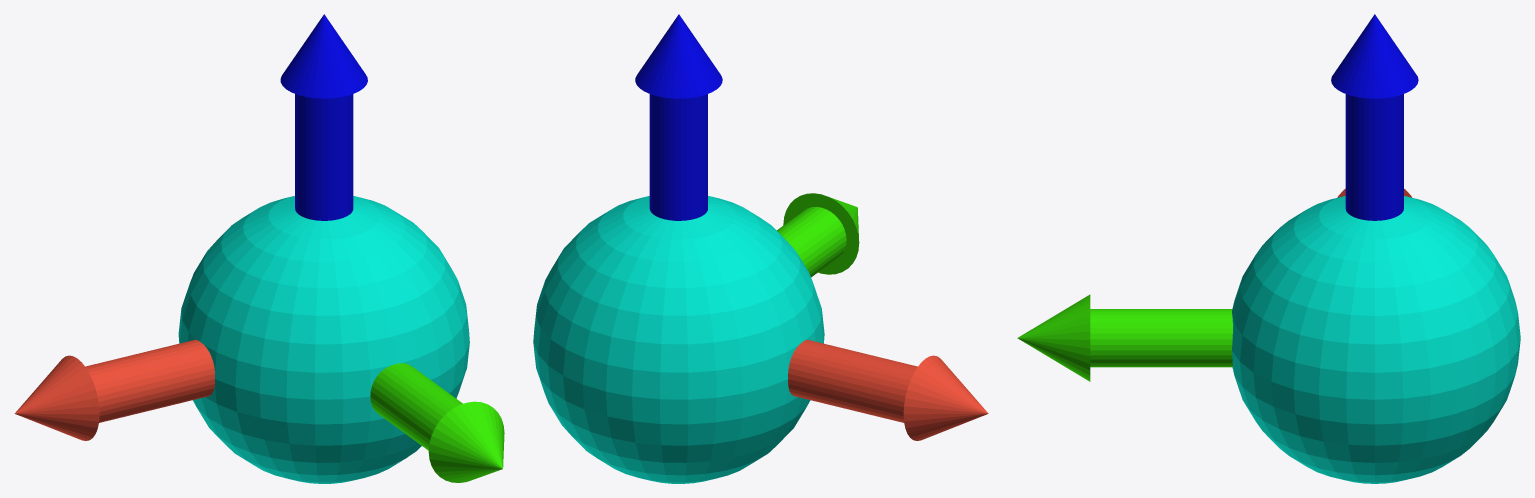
The model's file is ball_mesh.dae.
3 renders of one model, left to right at view 1: azimuth 30°, elevation 25°; view 2: azimuth 150°, elevation 25°; view 3: azimuth 270°, elevation 25°, orthographic.
Parts seen in each view (by area): view 1: Sphere, Cylinder, Cylinder_002, Cone_001, Cylinder_001, Cone_002, Cone; view 2: Sphere, Cylinder, Cylinder_002, Cone_002, Cone, Cylinder_001, Cone_001; view 3: Sphere, Cylinder_001, Cylinder, Cone, Cone_001.
Part boxes in pixels (box(x1,y1,x2,y2)): Sphere: box(178, 196, 469, 483); Cylinder: box(295, 94, 353, 220); Cylinder_002: box(85, 339, 214, 422); Cone_001: box(428, 401, 504, 482); Cylinder_001: box(370, 363, 462, 450); Cone_002: box(14, 355, 99, 440); Cone: box(280, 14, 367, 98); Sphere: box(533, 196, 824, 483); Cylinder: box(649, 94, 707, 220); Cylinder_002: box(788, 339, 917, 422); Cone_002: box(903, 355, 988, 440); Cone: box(635, 14, 722, 98); Cylinder_001: box(777, 207, 846, 277); Cone_001: box(783, 193, 859, 274); Sphere: box(1232, 196, 1520, 483); Cylinder_001: box(1090, 309, 1232, 367); Cylinder: box(1345, 94, 1403, 220); Cone: box(1331, 14, 1418, 98); Cone_001: box(1017, 294, 1090, 381).
Size of the model in its own units: 3.45 by 3.45 by 3.45.
